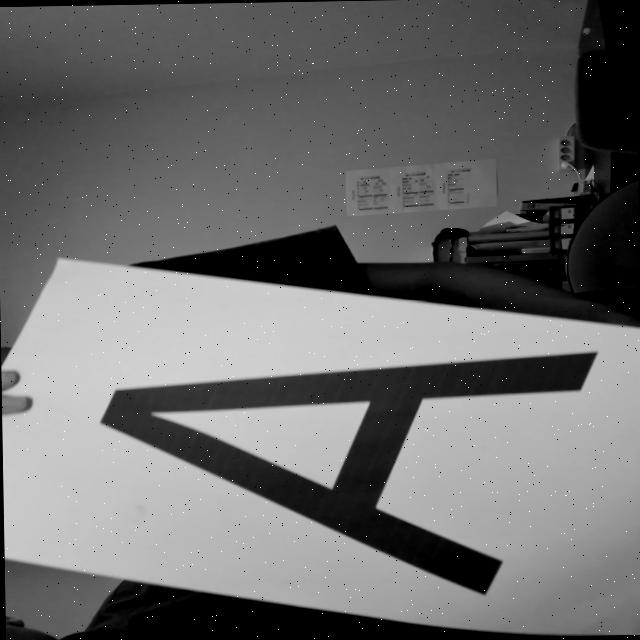a: (74, 334, 632, 606)
